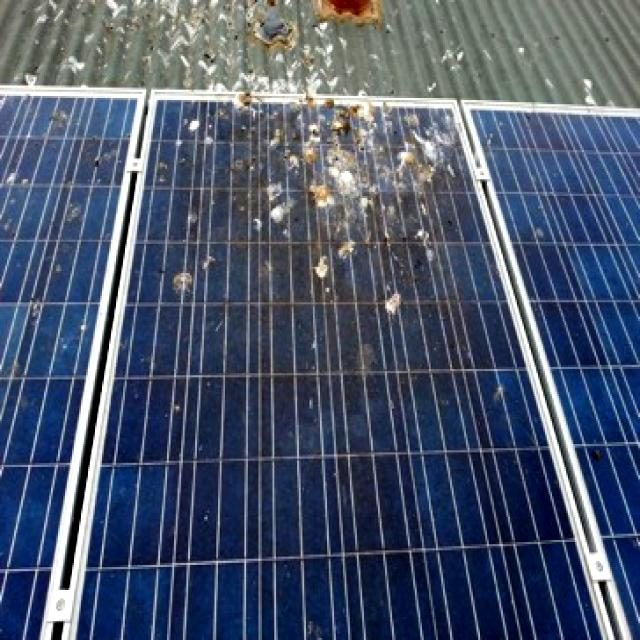bird: (258, 96, 408, 222), (166, 242, 238, 306), (298, 234, 363, 296), (169, 108, 224, 156), (12, 286, 55, 332), (43, 98, 79, 138), (90, 142, 116, 186), (385, 279, 405, 331)
